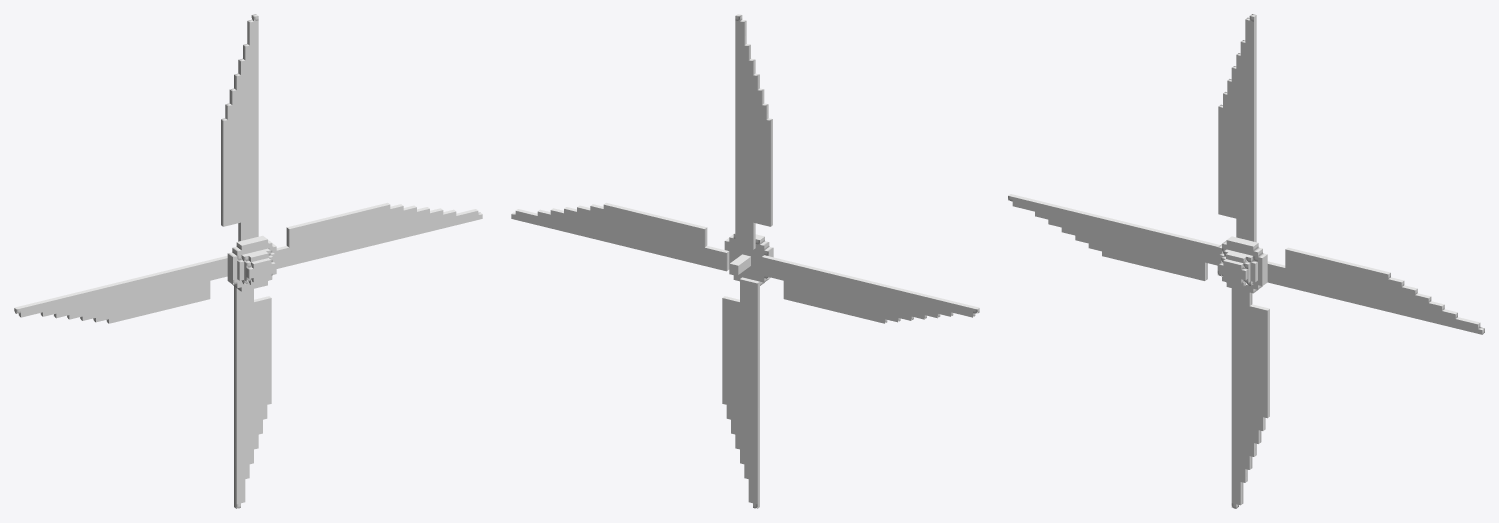
The model's file is rotors.obj.
3 renders of one model, left to right at view 1: azimuth 30°, elevation 25°; view 2: azimuth 150°, elevation 25°; view 3: azimuth 330°, elevation 25°, orthographic.
Visible parts, largest first — view 1: Model; view 2: Model; view 3: Model.
Part boxes in pixels (box(x1,y1,x2,y2)): Model: box(14, 14, 482, 508); Model: box(511, 14, 979, 508); Model: box(1008, 14, 1484, 508).
Bounding box in the file's own units: 16.71 × 16.71 × 1.58.
1 material, 1 textured.
